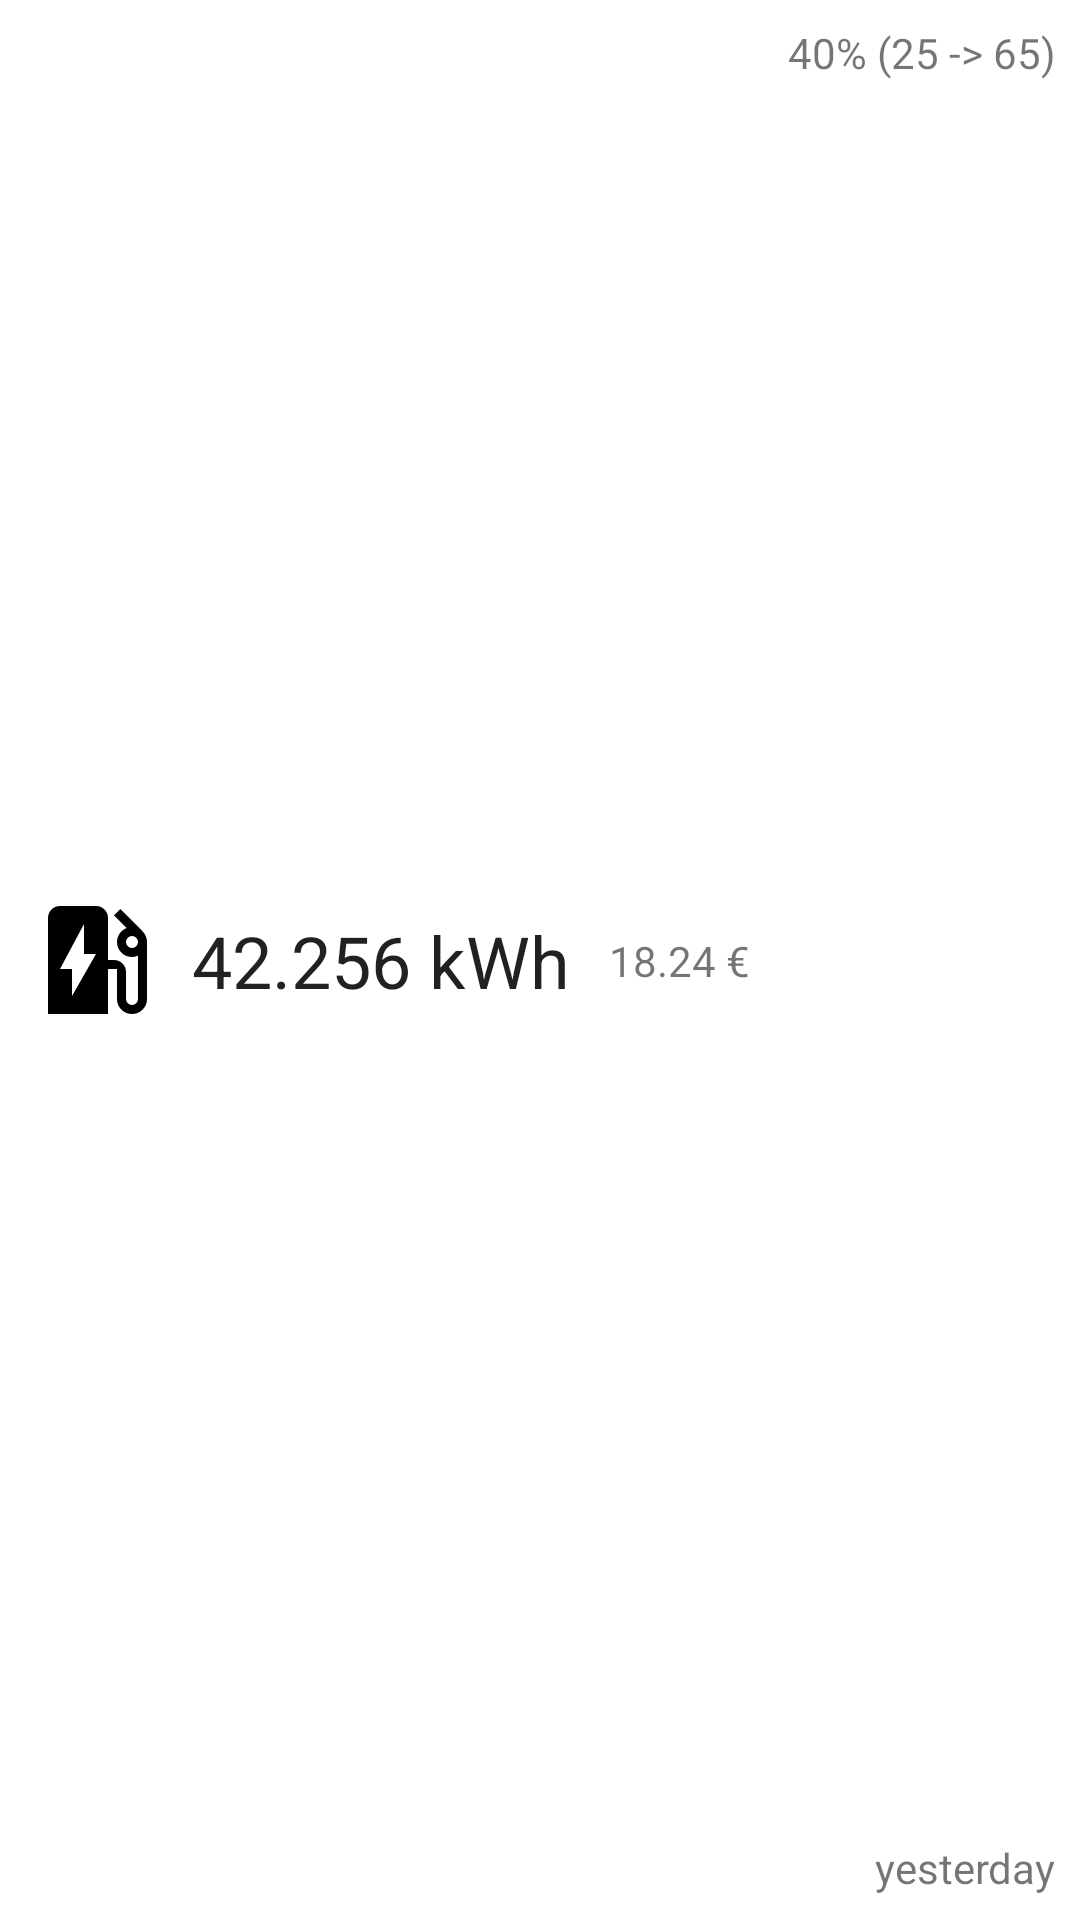

Screen size 1080w x 1920h. Icon name, then its box in pixels as Rect(x1, y1, x2, y2):
ev station: Rect(48, 906, 147, 1014)
